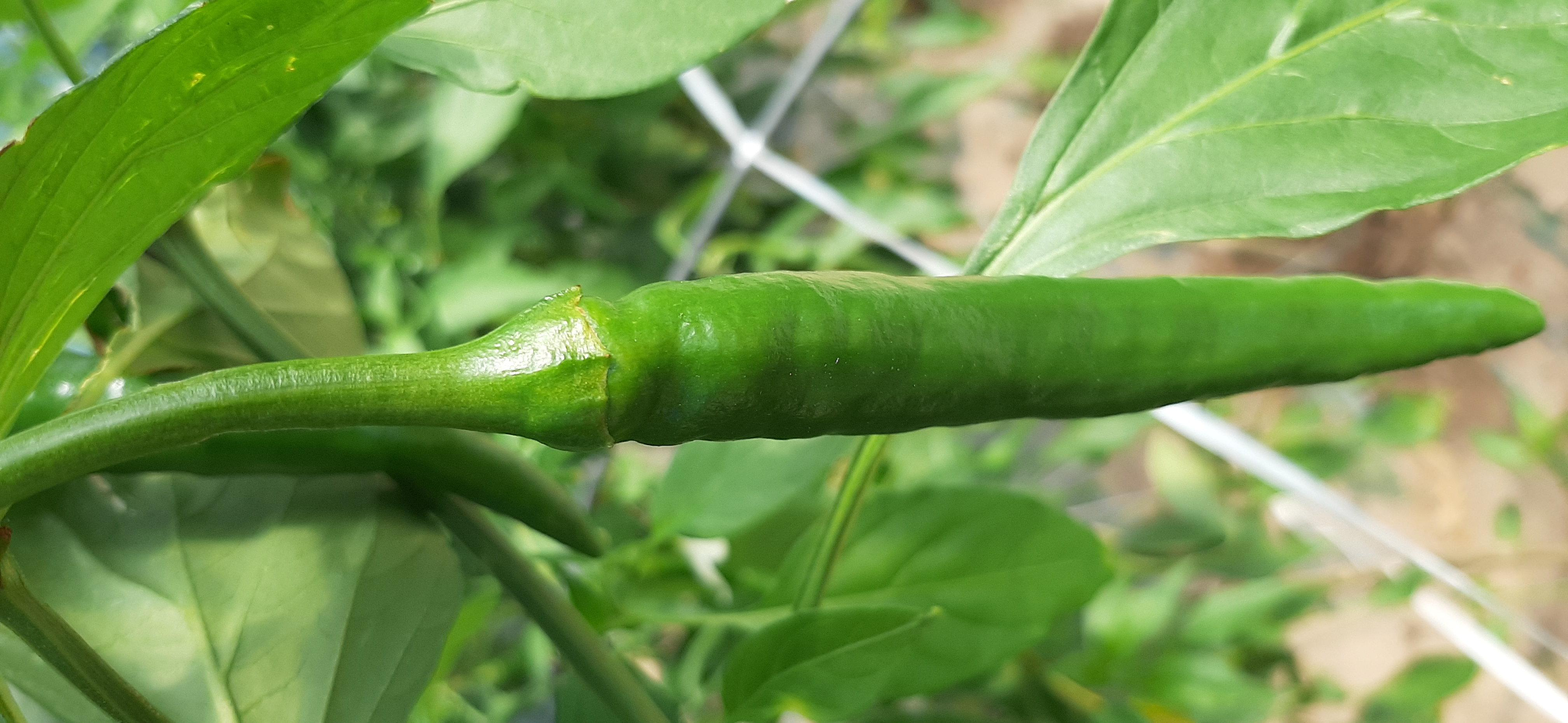Buah Cabai Sehat: (467, 263, 1548, 493)
